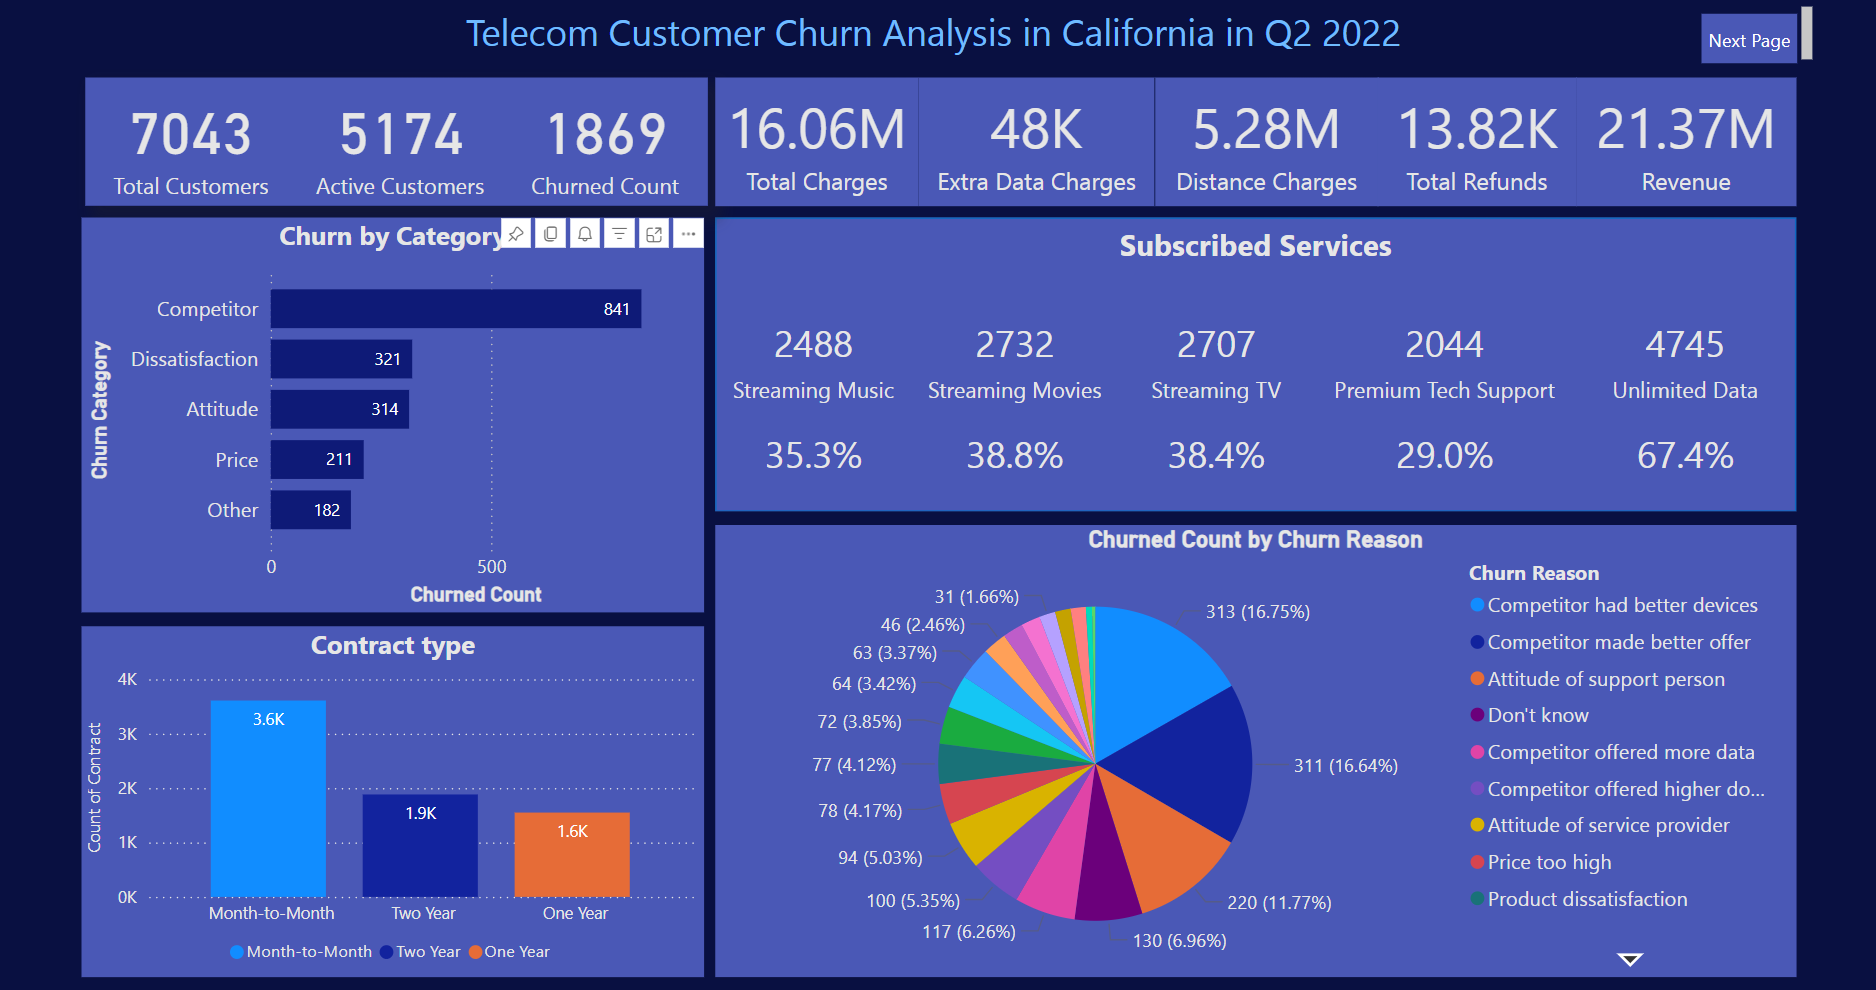

Layout of this report page (visuals, bound fields, positions):
{"tool":"powerbi","page":{"name":"Page 1","canvas":[1280,720],"ordinal":0},"visuals":[{"type":"shape","box":[18.7,56,452.8,93.3],"z":0,"group":"g1"},{"type":"card","fields":{"Values":["Sum(telecom_customer_churn.Total Long Distance Charges)"]},"box":[797.3,56,162.3,93.3],"z":0,"group":"g4"},{"type":"card","fields":{"Values":["Measures (2).Active Customers"]},"box":[173,57.1,149.3,92.2],"z":0,"group":"g3"},{"type":"shape","box":[477.7,158,786.2,214],"z":0},{"type":"group","id":"g1","title":"Group 2","box":[18.7,56,452.8,93.3],"z":1000},{"type":"card","fields":{"Values":["Sum(telecom_customer_churn.Total Refunds)"]},"box":[959.6,56,144.5,93.3],"z":1000,"group":"g4"},{"type":"group","id":"g2","title":"Group 1","box":[18.7,57.1,452.8,92.2],"z":1000,"group":"g1"},{"type":"card","fields":{"Values":["Measures (2).Total Customers"]},"box":[18.7,57.1,154.3,92.2],"z":1000,"group":"g3"},{"type":"card","fields":{"Values":["Sum(telecom_customer_churn.Total Revenue)"]},"box":[1104.1,56,159.8,93.3],"z":2000,"group":"g4"},{"type":"card","fields":{"Values":["Measures (2).Churned Count"]},"box":[322.2,57.1,149.3,92.2],"z":2000,"group":"g3"},{"type":"barChart","title":"Churn by Category","fields":{"Category":["Churn_Data.Churn Category"],"Y":["Measures (2).Churned Customers"]},"box":[16.2,158,452.8,287.4],"z":2000},{"type":"card","fields":{"Values":["Sum(telecom_customer_churn.Total Extra Data Charges)"]},"box":[626,56,171.3,93.3],"z":3000,"group":"g4"},{"type":"pieChart","fields":{"Category":["Churn_Data.Churn Reason"],"Y":["Measures (2).Churned Customers"]},"box":[477.7,381.9,786.2,328.4],"z":3000},{"type":"textbox","box":[0,0,1280,55],"z":4000},{"type":"card","fields":{"Values":["Sum(telecom_customer_churn.Total Charges)"]},"box":[477.7,56,148.3,93.3],"z":4000,"group":"g4"},{"type":"group","id":"g3","title":"Group 4","box":[18.7,57.1,452.8,92.2],"z":4009,"group":"g2"},{"type":"group","id":"g4","title":"Group 3","box":[477.7,56,786.2,93.3],"z":5000},{"type":"columnChart","title":"Contract type","fields":{"Category":["telecom_customer_churn.Contract"],"Series":["telecom_customer_churn.Contract"],"Y":["CountNonNull(telecom_customer_churn.Contract)"]},"box":[16.2,455.3,452.8,255],"z":6000},{"type":"card","fields":{"Values":["Measures (2).Music Yes"]},"box":[477.7,201.5,143.1,118.8],"z":6001,"group":"g5"},{"type":"card","fields":{"Values":["Measures (2).Premimum Tech Sup"]},"box":[913.1,201.5,190.3,118.8],"z":6002,"group":"g5"},{"type":"card","fields":{"Values":["Measures (2).Streaming Movies"]},"box":[620.8,201.5,150.5,118.8],"z":6003,"group":"g5"},{"type":"card","fields":{"Values":["Measures (2).TV Subscribed Count"]},"box":[771.3,201.5,141.8,118.8],"z":6004,"group":"g5"},{"type":"card","fields":{"Values":["Measures (2).Unlimited Data Yes"]},"box":[1103.4,201.5,160.5,118.8],"z":6005,"group":"g5"},{"type":"card","fields":{"Values":["Measures (2).Music Percentage"]},"box":[477.7,302.8,143.1,56.7],"z":6006,"group":"g5"},{"type":"card","fields":{"Values":["Measures (2).Movies Percenatge"]},"box":[620.8,302.8,150.5,56.7],"z":6007,"group":"g5"},{"type":"card","fields":{"Values":["Measures (2).TV Percentage"]},"box":[771.3,302.8,141.8,56.7],"z":6008,"group":"g5"},{"type":"card","fields":{"Values":["Measures (2).Premium tech support percentage"]},"box":[913.1,302.8,190.3,56.7],"z":6009,"group":"g5"},{"type":"card","fields":{"Values":["Measures (2).Unlimited Data Percentage"]},"box":[1103.4,302.8,160.5,56.7],"z":6010,"group":"g5"},{"type":"group","id":"g5","title":"Group 5","box":[477.7,201.5,786.2,158],"z":6011},{"type":"textbox","box":[477.7,158,786.2,43.5],"z":6012},{"type":"actionButton","box":[1194.2,10,69.7,36.1],"z":6013}]}

Visuals, with their boxes on the page's 1280x720 design canvas (x1, y1, x2, y2). These are canvas units, not pixel positions in the 1876x990 screenshot, which may show the page scaled, cropped or inside an application window:
shape: x1=19, y1=56, x2=472, y2=149
card - Sum(telecom_customer_churn.Total Long Distance Charges): x1=797, y1=56, x2=960, y2=149
card - Measures (2).Active Customers: x1=173, y1=57, x2=322, y2=149
shape: x1=478, y1=158, x2=1264, y2=372
"Group 2" group: x1=19, y1=56, x2=472, y2=149
card - Sum(telecom_customer_churn.Total Refunds): x1=960, y1=56, x2=1104, y2=149
"Group 1" group: x1=19, y1=57, x2=472, y2=149
card - Measures (2).Total Customers: x1=19, y1=57, x2=173, y2=149
card - Sum(telecom_customer_churn.Total Revenue): x1=1104, y1=56, x2=1264, y2=149
card - Measures (2).Churned Count: x1=322, y1=57, x2=472, y2=149
"Churn by Category" barChart: x1=16, y1=158, x2=469, y2=445
card - Sum(telecom_customer_churn.Total Extra Data Charges): x1=626, y1=56, x2=797, y2=149
pieChart - Churn_Data.Churn Reason x Measures (2).Churned Customers: x1=478, y1=382, x2=1264, y2=710
textbox: x1=0, y1=0, x2=1280, y2=55
card - Sum(telecom_customer_churn.Total Charges): x1=478, y1=56, x2=626, y2=149
"Group 4" group: x1=19, y1=57, x2=472, y2=149
"Group 3" group: x1=478, y1=56, x2=1264, y2=149
"Contract type" columnChart: x1=16, y1=455, x2=469, y2=710
card - Measures (2).Music Yes: x1=478, y1=202, x2=621, y2=320
card - Measures (2).Premimum Tech Sup: x1=913, y1=202, x2=1103, y2=320
card - Measures (2).Streaming Movies: x1=621, y1=202, x2=771, y2=320
card - Measures (2).TV Subscribed Count: x1=771, y1=202, x2=913, y2=320
card - Measures (2).Unlimited Data Yes: x1=1103, y1=202, x2=1264, y2=320
card - Measures (2).Music Percentage: x1=478, y1=303, x2=621, y2=360
card - Measures (2).Movies Percenatge: x1=621, y1=303, x2=771, y2=360
card - Measures (2).TV Percentage: x1=771, y1=303, x2=913, y2=360
card - Measures (2).Premium tech support percentage: x1=913, y1=303, x2=1103, y2=360
card - Measures (2).Unlimited Data Percentage: x1=1103, y1=303, x2=1264, y2=360
"Group 5" group: x1=478, y1=202, x2=1264, y2=360
textbox: x1=478, y1=158, x2=1264, y2=202
actionButton: x1=1194, y1=10, x2=1264, y2=46
